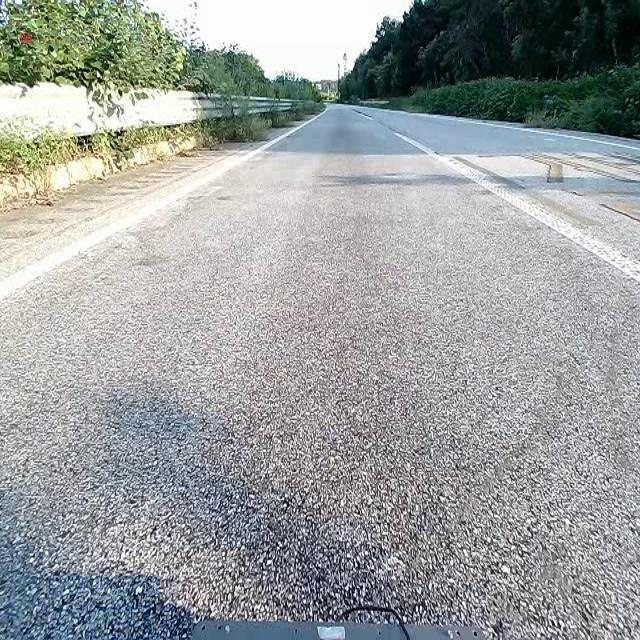Lane: (0, 104, 328, 300), (0, 116, 319, 304), (390, 126, 640, 282), (394, 132, 639, 286)
